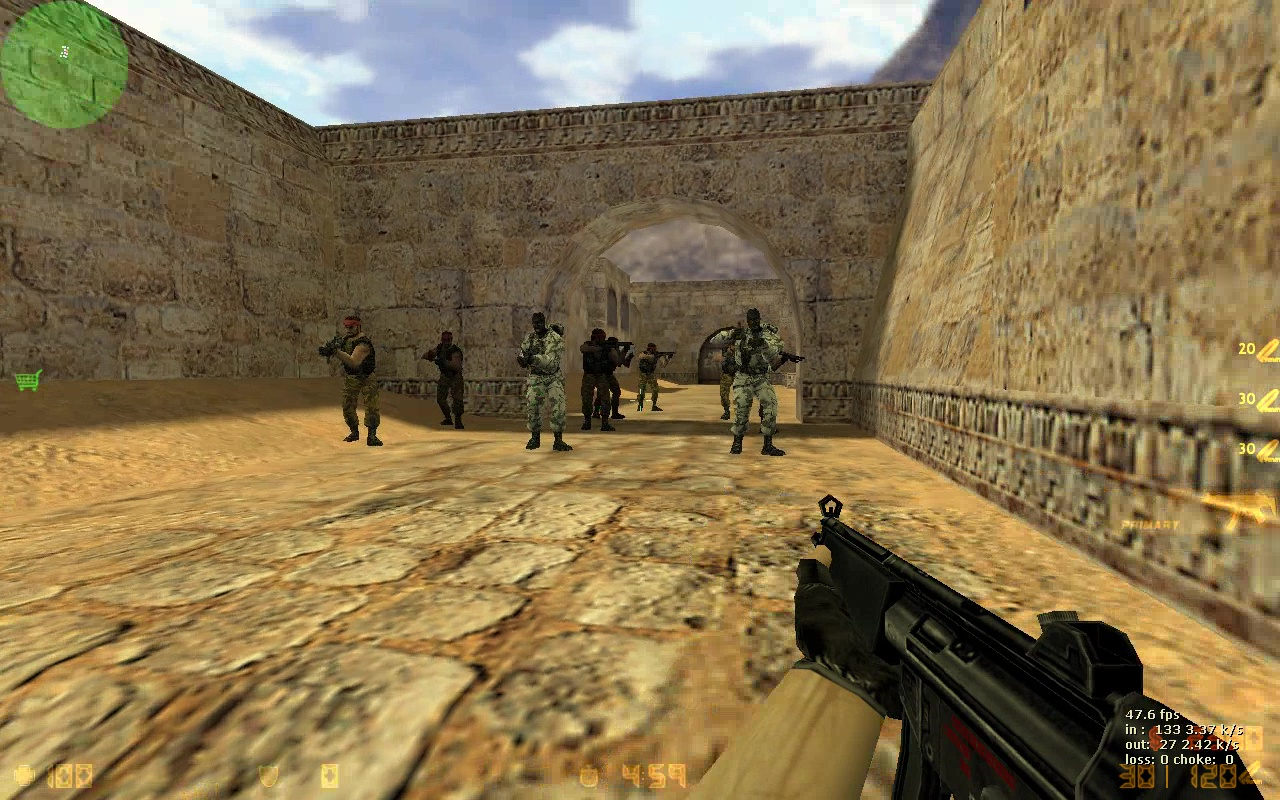terr1: (330, 319, 387, 446), (428, 333, 471, 430), (583, 332, 622, 435), (640, 342, 665, 417)
terr2: (721, 315, 783, 455), (516, 311, 566, 454)
